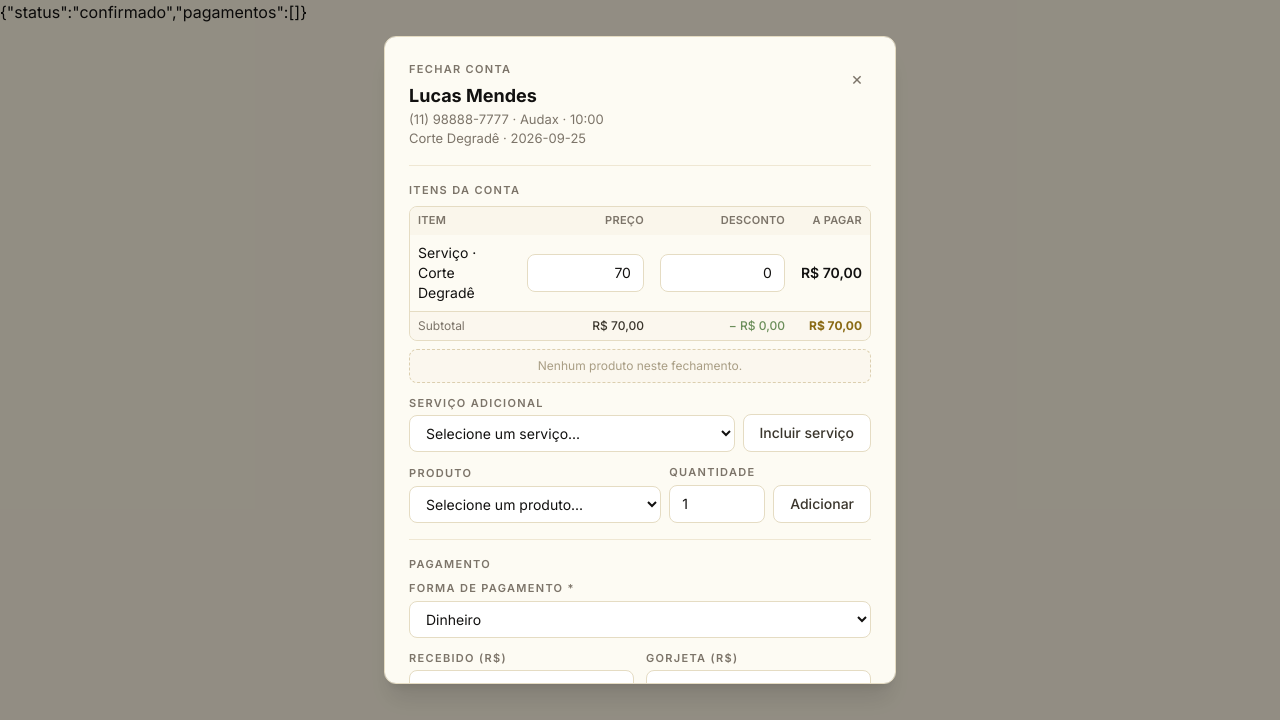
Test: PagamentoModal › bloqueia desconto maior que o valor do serviço
Type "100" into the field named "Desconto (R$)" at (722, 273), box [660,254,785,292]
(page scrolled)
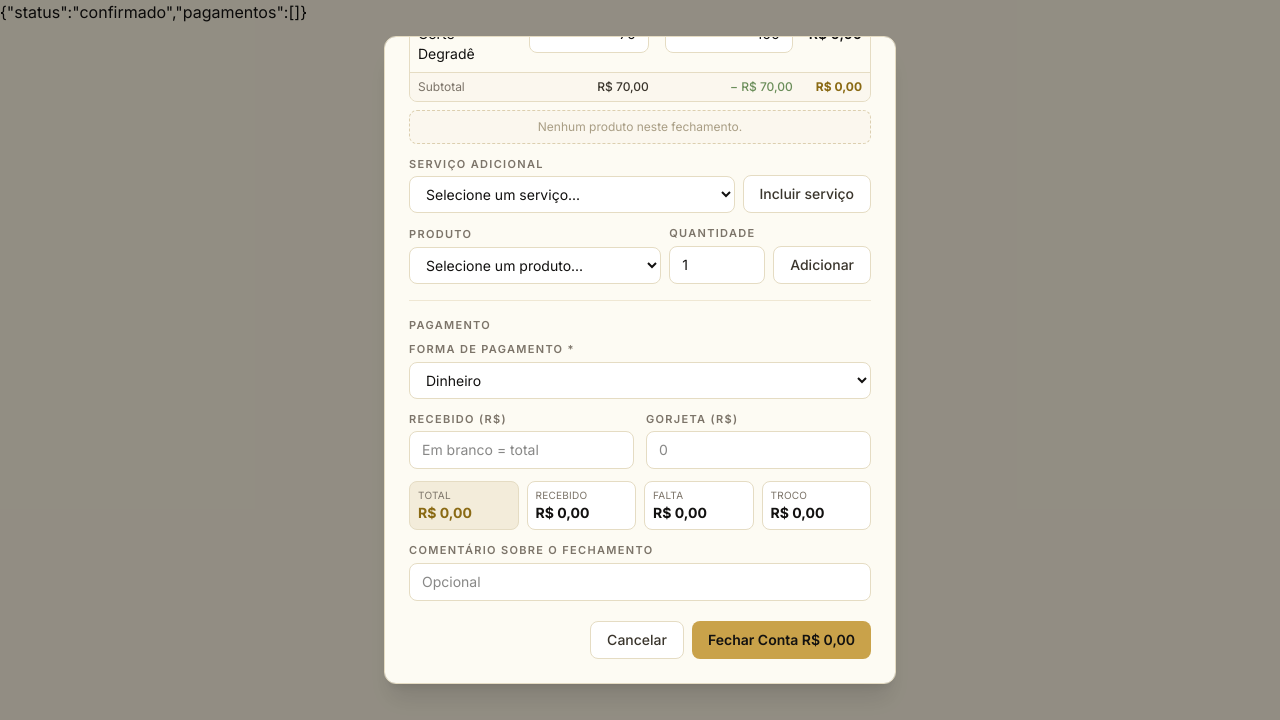
Click the button "Fechar Conta R$ 0,00" at (782, 640), box [692,621,871,659]
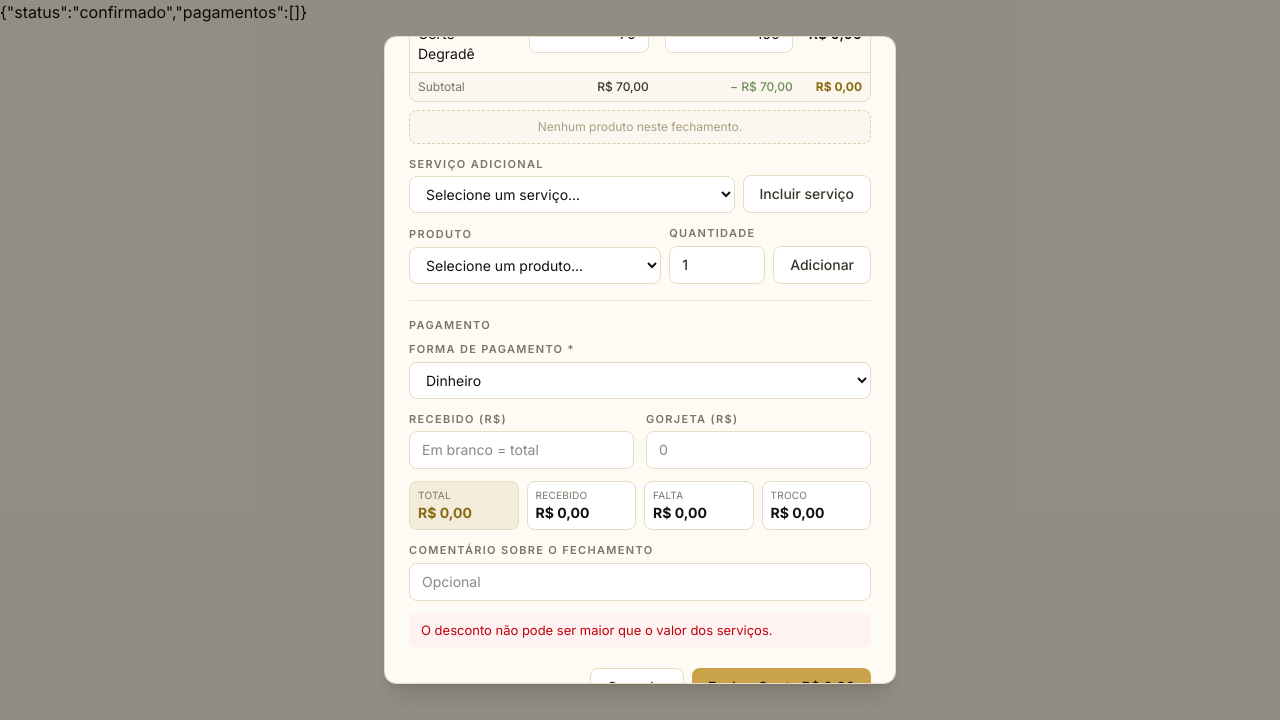
Expected: the text "O desconto não pode ser maior que o valor dos serviços." is shown, [409,613,871,648]
